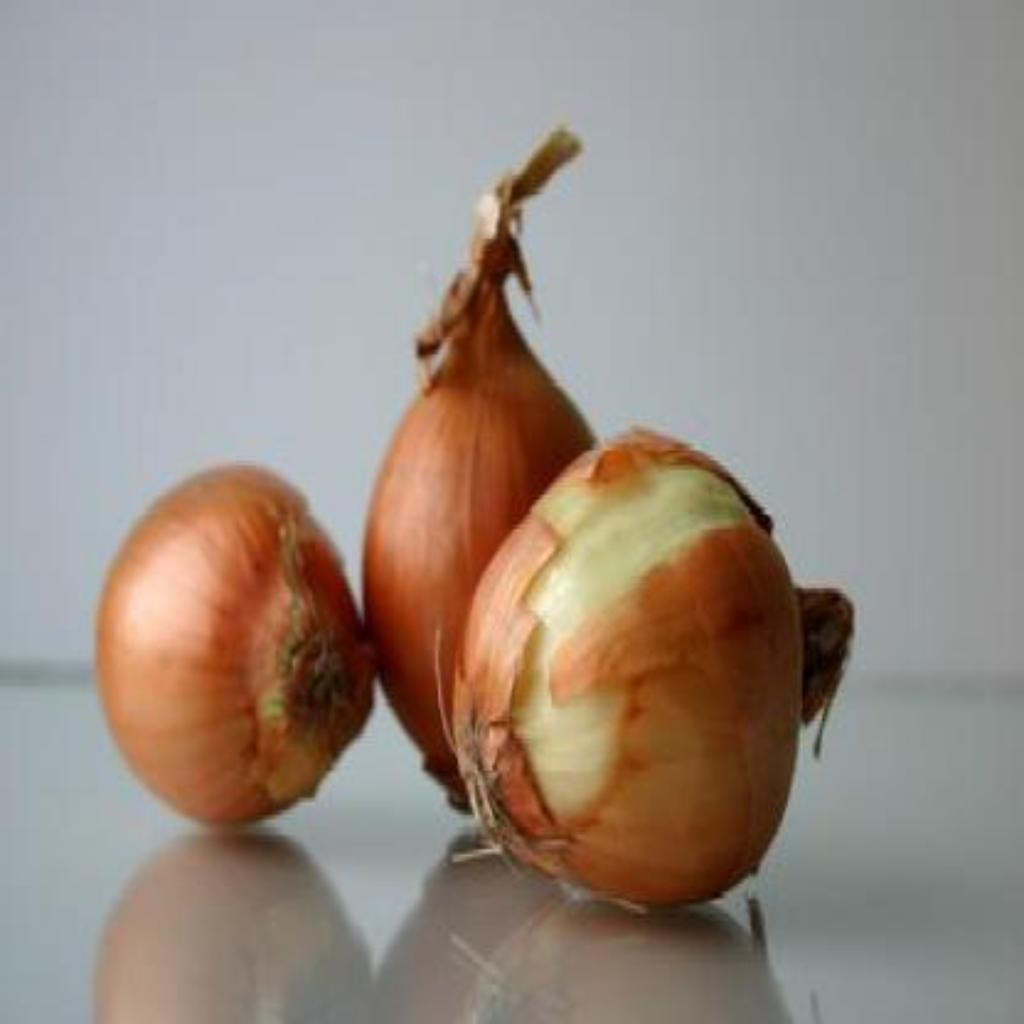Onion: (441, 431, 857, 905), (364, 128, 596, 809), (96, 465, 374, 823)
